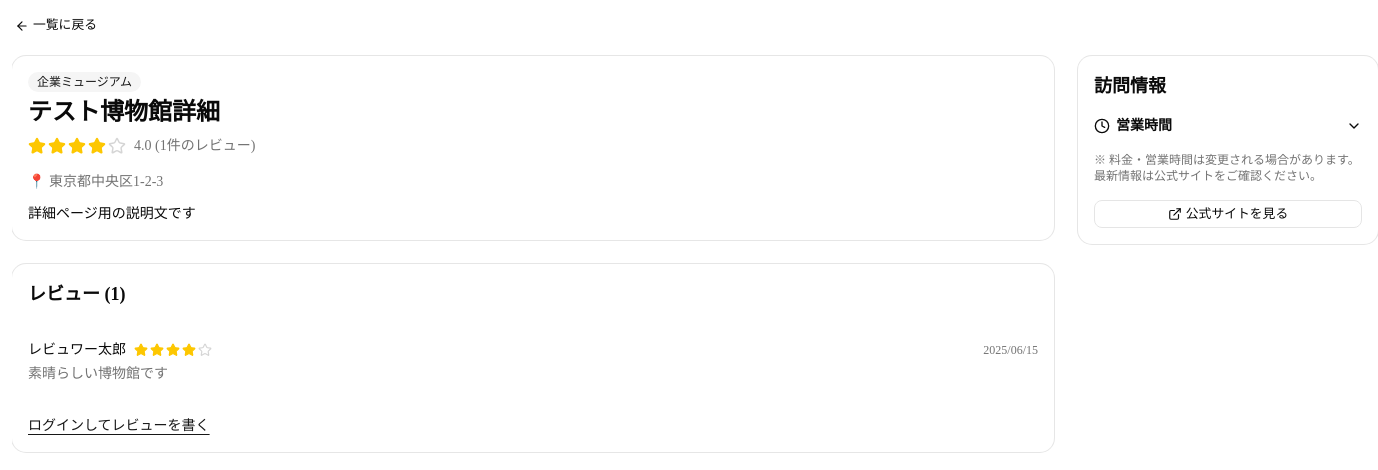
it: MuseumDetailPage › should hide full operating hours by default and show them on toggle click
Expected: the heading "テスト博物館詳細" is shown, [28,99,220,125]
Expected: the text "休館" is not shown
// Click toggle to expand
Click the button "営業時間": (1144, 126) [1094,116,1362,136]
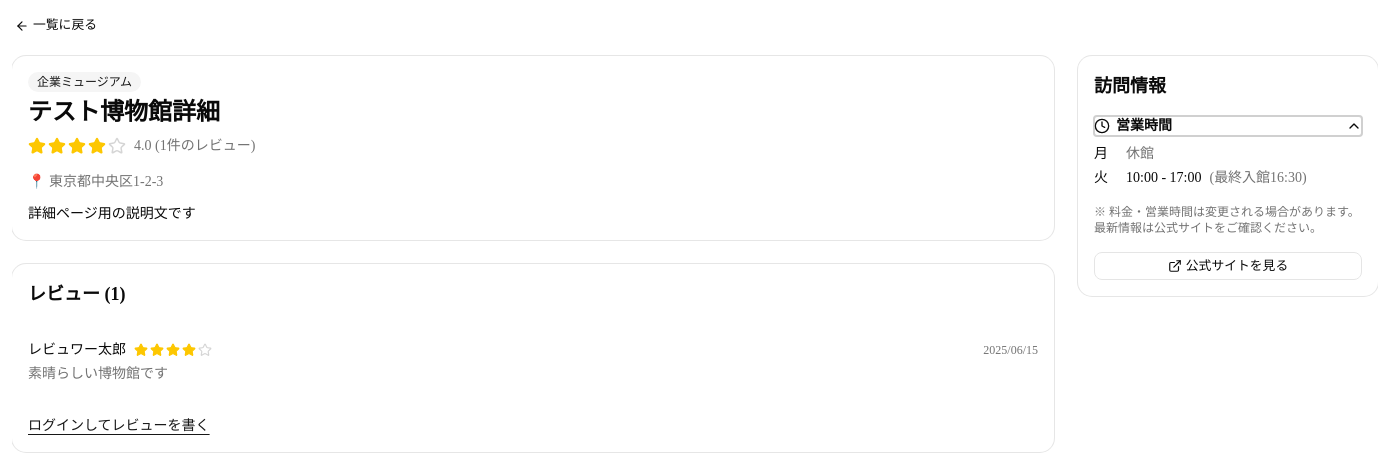
Expected: the text "休館" is shown, [1126,144,1154,164]
Expected: the text "10:00 - 17:00" is shown, [1126,168,1307,188]
